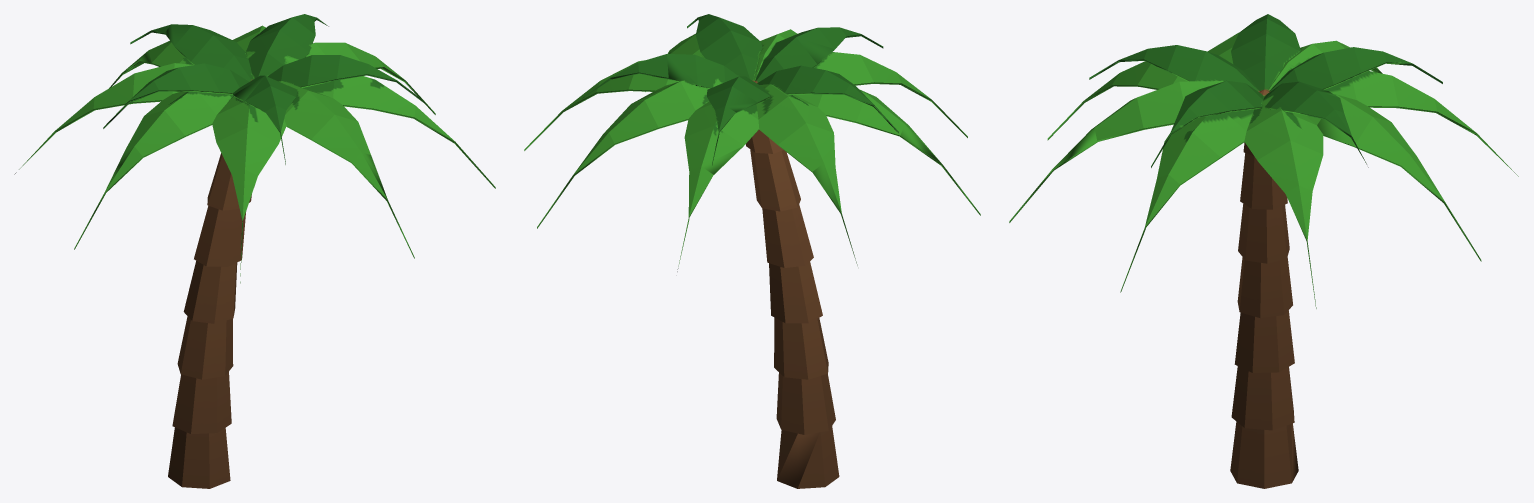
The model's file is bench_palm_tree.fbx.
The picture shows the model from 3 angles, left to right: view 1: azimuth 30°, elevation 25°; view 2: azimuth 150°, elevation 25°; view 3: azimuth 270°, elevation 25°; orthographic projection. The views are drawn at different scales.
Visible parts, largest first — view 1: main; view 2: main; view 3: main.
Part boxes in pixels (x1,y1,x2,y2): main: [14, 14, 495, 488]; main: [524, 14, 980, 488]; main: [1009, 14, 1518, 488].
Bounding box in the file's own units: 412 × 396 × 412.
Materials: 1 (1 with a texture image).
